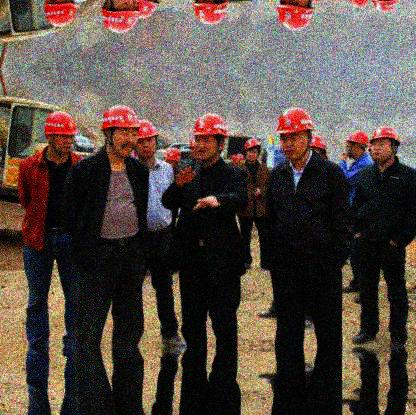helmet: (273, 106, 316, 160), (100, 104, 142, 159), (191, 112, 230, 160), (40, 110, 80, 154), (100, 1, 143, 35), (275, 1, 316, 32), (132, 119, 160, 159), (370, 127, 402, 162), (346, 130, 368, 159), (244, 137, 262, 162), (308, 138, 328, 157)
